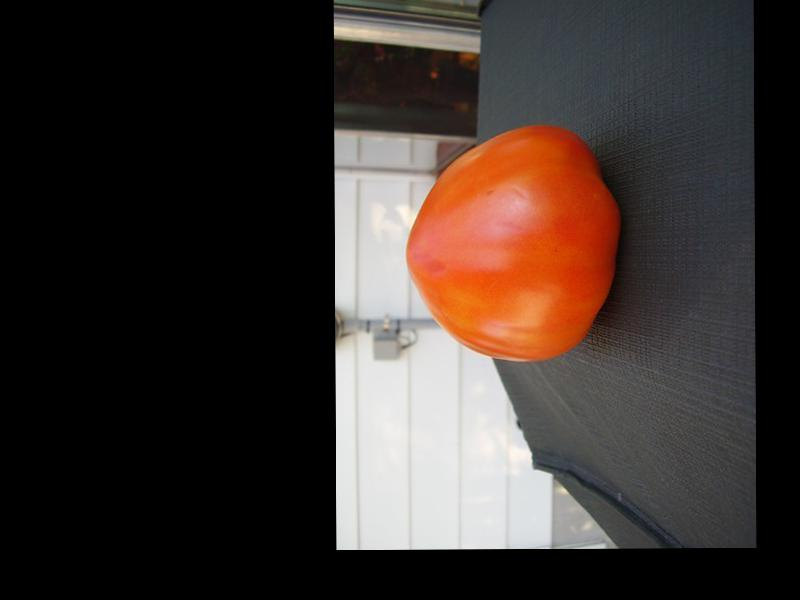Tomato: (404, 124, 619, 361)
